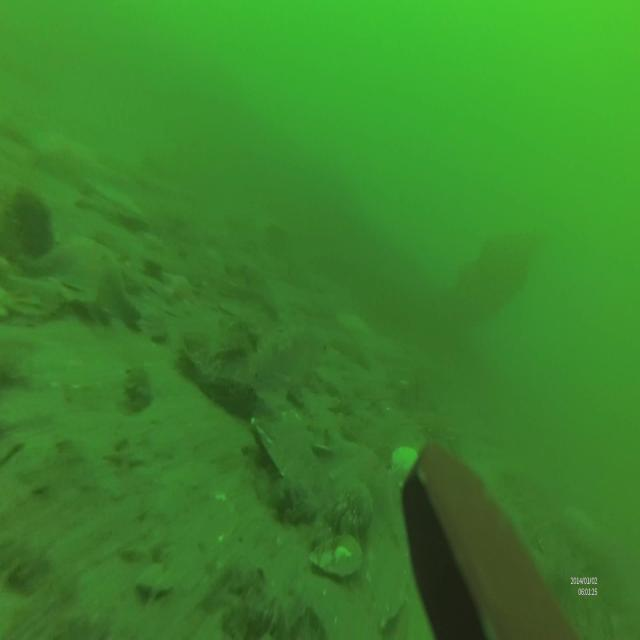starfish: (45, 232, 142, 326), (313, 418, 399, 523), (162, 268, 195, 314)
